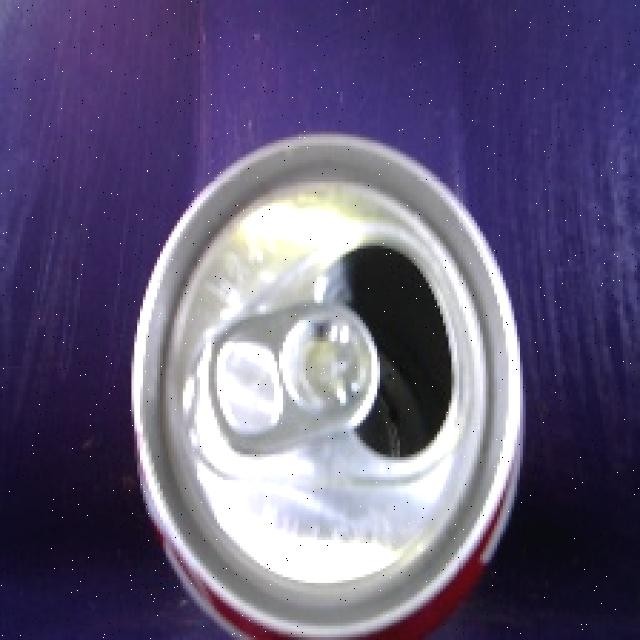metal: (115, 114, 545, 640)
